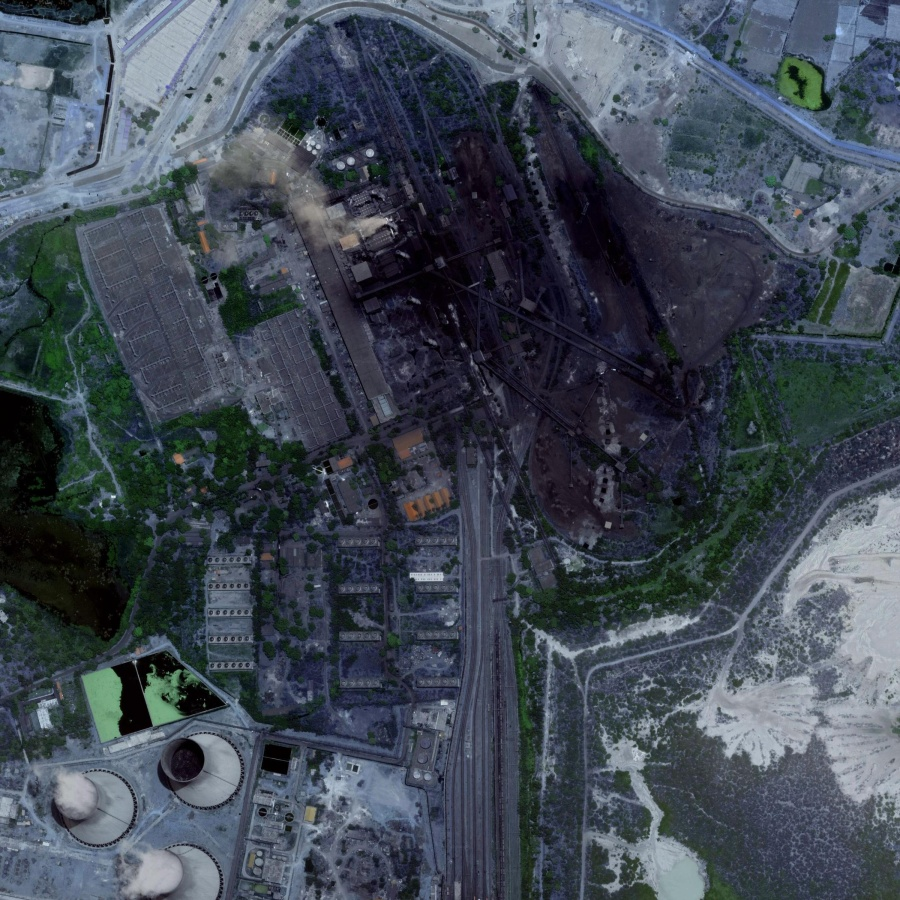PowerPlant: (229, 1, 720, 540)
